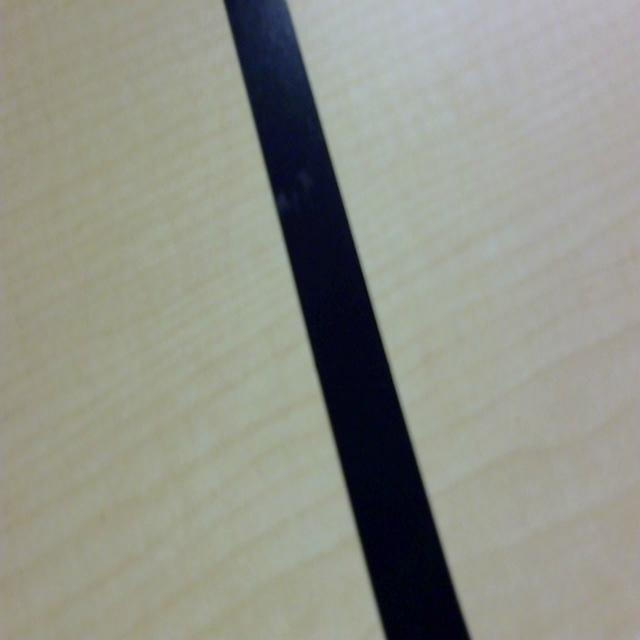tape: (206, 0, 495, 640)
